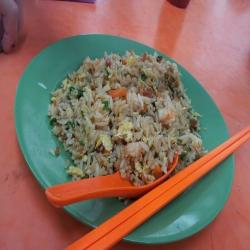rice: (60, 69, 194, 180)
